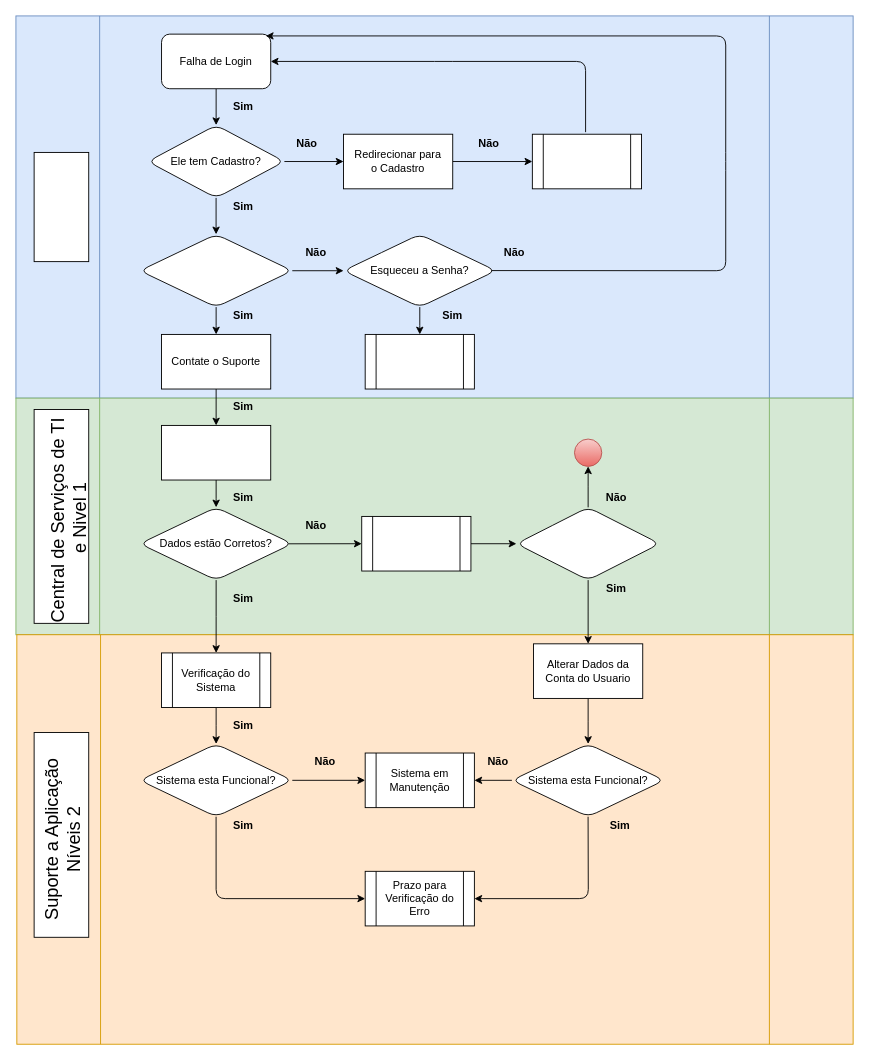
This 869x1060 diagram has some shape labels left out. Here are the shapes that lost their labels. From the top down, the centre of each, then its label:
the point at 586,161: Preencher Campos do Cadastro
the point at 61,207: USUARIO
the point at 215,270: Os Dados Preenchidos Estão Corretos?
the point at 419,361: Atualizar a Senha
the point at 216,452: Verificar Dados dos Usuarios
the point at 416,543: Confirmar identidade por Email
the point at 588,543: Identidade é Verdadeira?
